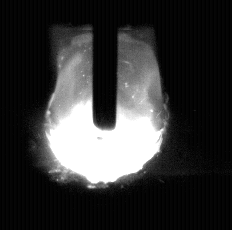arame: (94, 0, 118, 130)
poca: (48, 0, 162, 230)
